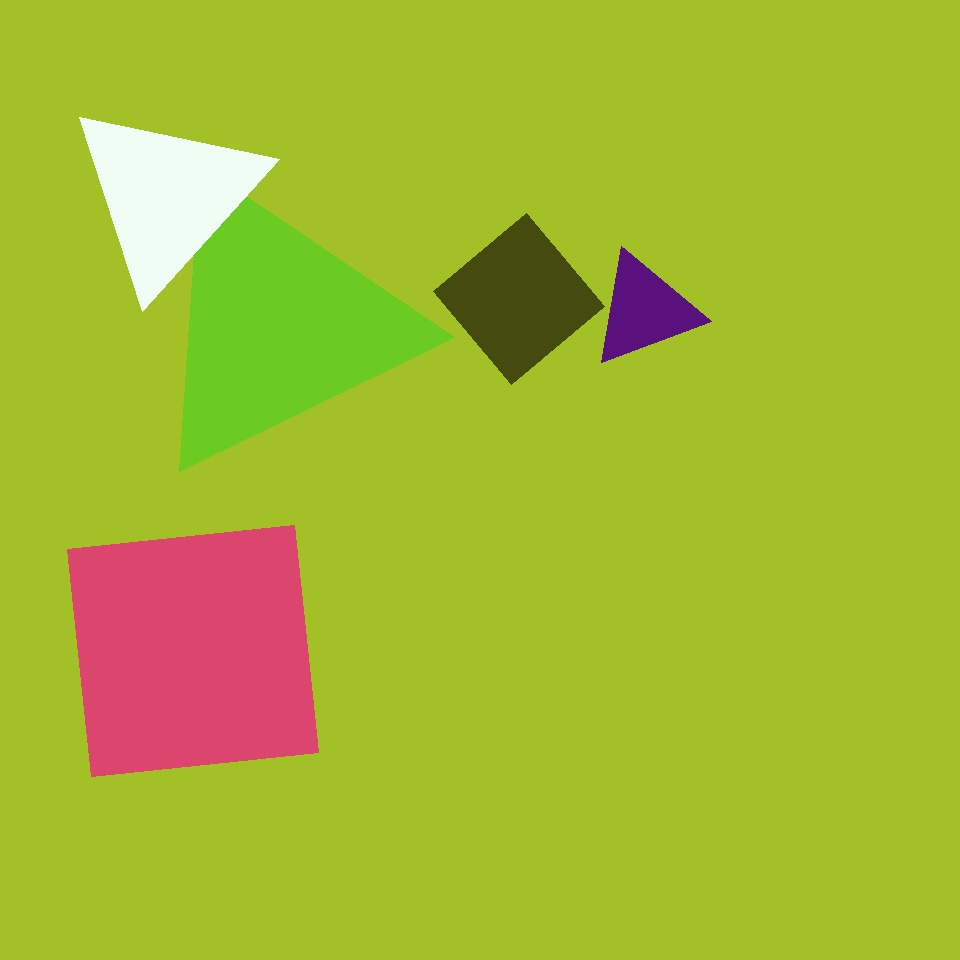circle: (141, 172, 416, 478), (67, 99, 267, 293), (376, 695, 545, 849), (590, 252, 700, 368)
square: (68, 526, 318, 776), (283, 519, 489, 725), (434, 214, 605, 384)
